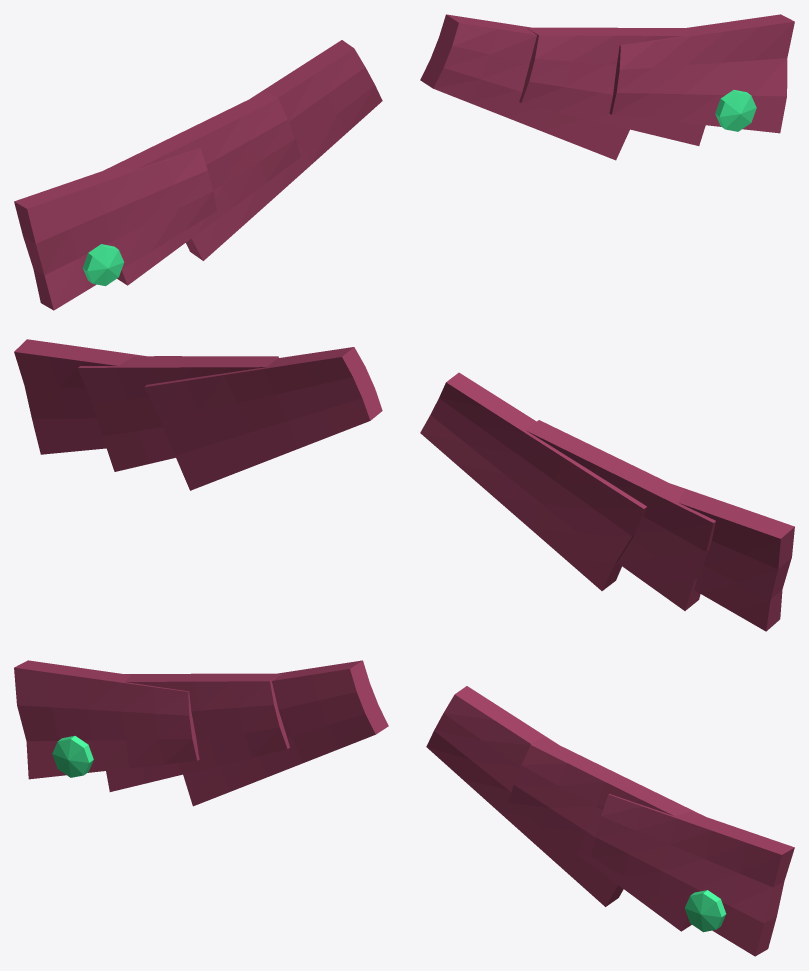
Rendered from feather_pair.obj.
3 renders of one model, top to bottom at view 1: azimuth 30°, elevation 25°; view 2: azimuth 150°, elevation 25°; view 3: azimuth 330°, elevation 25°, orthographic.
Visible parts, largest first — view 1: feather_sleeve_-1_2_feather, feather_sleeve_1_2_feather, feather_sleeve_1_0_feather, feather_sleeve_-1_0_feather, feather_sleeve_1_1_feather, feather_sleeve_-1_1_feather, feather_sleeve_-1_2_feather_edge, feather_sleeve_-1_1_feather_edge, feather_sleeve_1_0_feather_edge, feather_sleeve_1_1_feather_edge, feather_sleeve_-1_0_feather_edge, feather_sleeve_1_2_feather_edge (+2 smaller); view 2: feather_sleeve_1_0_feather_back, feather_sleeve_-1_0_feather_back, feather_sleeve_-1_1_feather_back, feather_sleeve_1_1_feather_back, feather_sleeve_-1_2_feather_back, feather_sleeve_1_2_feather_back, feather_sleeve_-1_1_feather_edge, feather_sleeve_-1_2_feather_edge, feather_sleeve_-1_0_feather_edge, feather_sleeve_1_0_feather_edge, feather_sleeve_1_1_feather_edge, feather_sleeve_1_2_feather_edge; view 3: feather_sleeve_1_2_feather, feather_sleeve_-1_2_feather, feather_sleeve_-1_0_feather, feather_sleeve_1_0_feather, feather_sleeve_-1_1_feather, feather_sleeve_1_1_feather, feather_sleeve_1_2_feather_edge, feather_sleeve_1_1_feather_edge, feather_sleeve_-1_0_feather_edge, feather_sleeve_-1_1_feather_edge, feather_sleeve_1_0_feather_edge, feather_sleeve_-1_2_feather_edge (+2 smaller).
Part boxes in pixels (x1,y1,x2,y2): feather_sleeve_-1_2_feather: [27, 148, 216, 310]; feather_sleeve_1_2_feather: [612, 21, 794, 133]; feather_sleeve_1_0_feather: [433, 23, 629, 160]; feather_sleeve_-1_0_feather: [191, 48, 382, 260]; feather_sleeve_1_1_feather: [521, 35, 705, 145]; feather_sleeve_-1_1_feather: [121, 99, 300, 285]; feather_sleeve_-1_2_feather_edge: [14, 148, 200, 310]; feather_sleeve_-1_1_feather_edge: [103, 91, 277, 285]; feather_sleeve_1_0_feather_edge: [420, 14, 536, 88]; feather_sleeve_1_1_feather_edge: [519, 27, 684, 102]; feather_sleeve_-1_0_feather_edge: [186, 40, 353, 260]; feather_sleeve_1_2_feather_edge: [609, 14, 794, 114]; feather_sleeve_1_0_feather_back: [144, 357, 370, 490]; feather_sleeve_-1_0_feather_back: [420, 382, 643, 590]; feather_sleeve_-1_1_feather_back: [527, 431, 713, 610]; feather_sleeve_1_1_feather_back: [78, 367, 265, 471]; feather_sleeve_-1_2_feather_back: [679, 503, 780, 631]; feather_sleeve_1_2_feather_back: [14, 352, 116, 454]; feather_sleeve_-1_1_feather_edge: [526, 420, 715, 610]; feather_sleeve_-1_2_feather_edge: [672, 484, 794, 631]; feather_sleeve_-1_0_feather_edge: [446, 372, 646, 590]; feather_sleeve_1_0_feather_edge: [145, 347, 382, 420]; feather_sleeve_1_1_feather_edge: [78, 356, 278, 367]; feather_sleeve_1_2_feather_edge: [14, 339, 146, 365]; feather_sleeve_1_2_feather: [592, 794, 781, 956]; feather_sleeve_-1_2_feather: [14, 667, 196, 779]; feather_sleeve_-1_0_feather: [183, 669, 375, 806]; feather_sleeve_1_0_feather: [426, 694, 617, 906]; feather_sleeve_-1_1_feather: [106, 681, 287, 791]; feather_sleeve_1_1_feather: [508, 745, 687, 931]; feather_sleeve_1_2_feather_edge: [608, 794, 794, 956]; feather_sleeve_1_1_feather_edge: [531, 737, 705, 931]; feather_sleeve_-1_0_feather_edge: [272, 660, 388, 734]; feather_sleeve_-1_1_feather_edge: [124, 673, 289, 748]; feather_sleeve_1_0_feather_edge: [455, 686, 623, 906]; feather_sleeve_-1_2_feather_edge: [14, 660, 199, 760].
Size of the model in its own units: 2.48 by 0.5588 by 0.1693.
